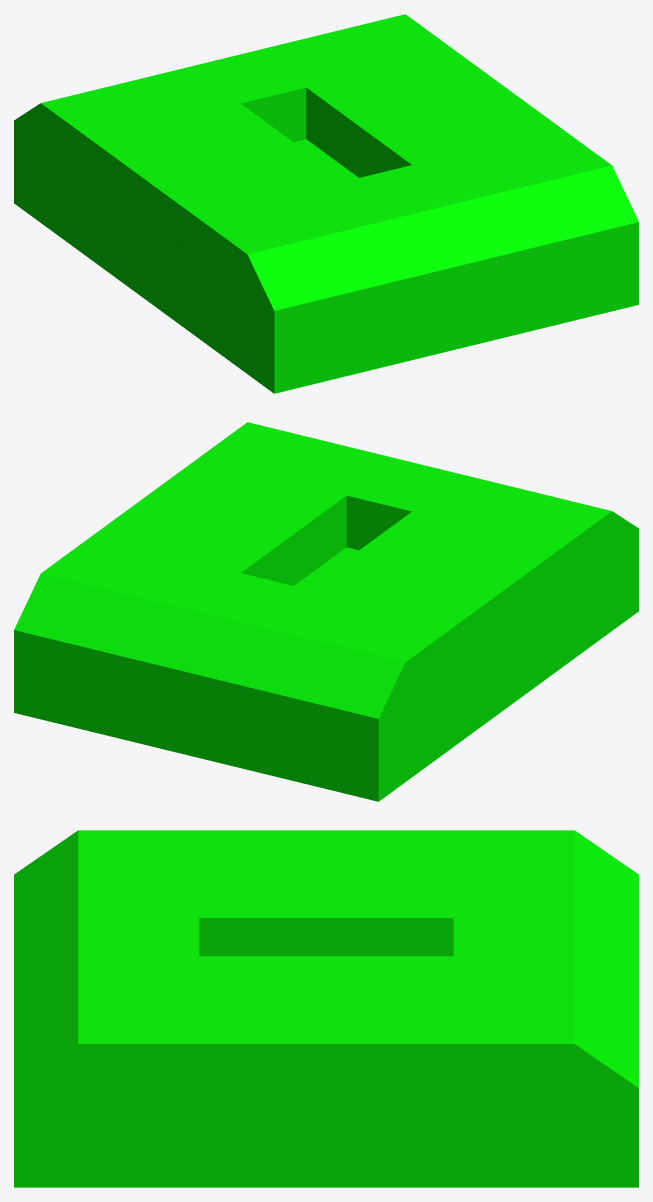
Rendered from SM_Switch_01_Collider.fbx.
3 views of the same model, one above another, from view 1: azimuth 30°, elevation 25°; view 2: azimuth 150°, elevation 25°; view 3: azimuth 270°, elevation 25° (orthographic). The views are drawn at different scales.
Parts seen in each view (by area): view 1: SM_Switch_01_Collider; view 2: SM_Switch_01_Collider; view 3: SM_Switch_01_Collider.
Part boxes in pixels (x1,y1,x2,y2): SM_Switch_01_Collider: (14, 14, 638, 393); SM_Switch_01_Collider: (14, 422, 638, 801); SM_Switch_01_Collider: (14, 830, 638, 1187).
Bounding box in the file's own units: 13.92 × 4.37 × 17.2.
